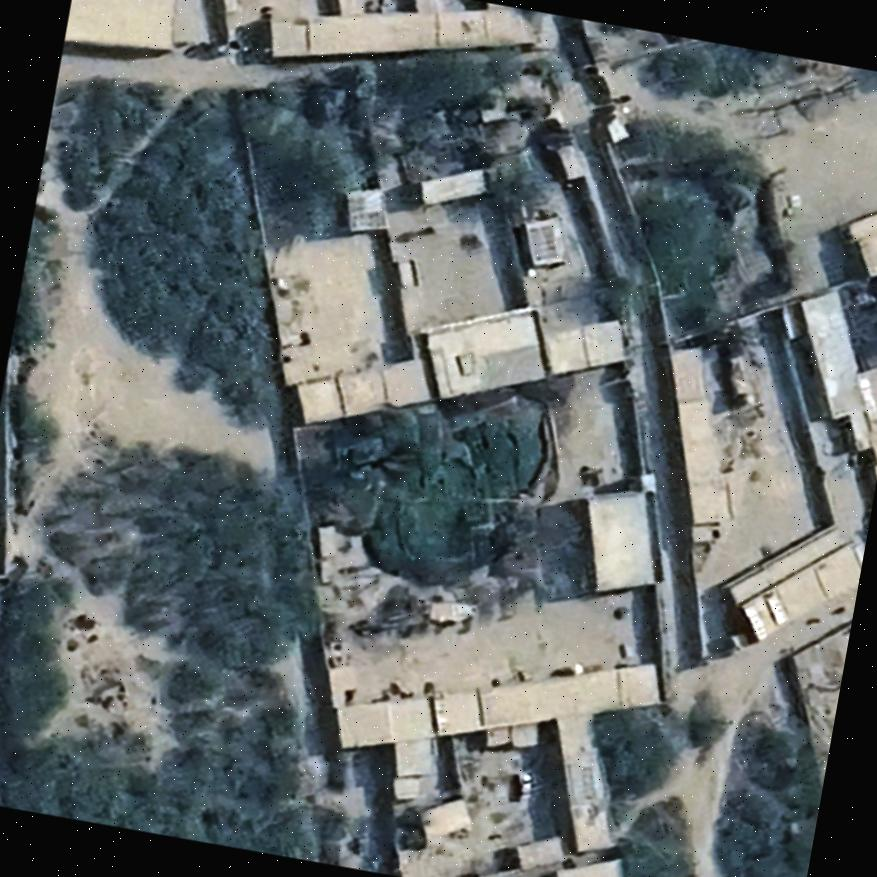Solarpanel: (518, 217, 562, 270), (344, 188, 384, 233)
